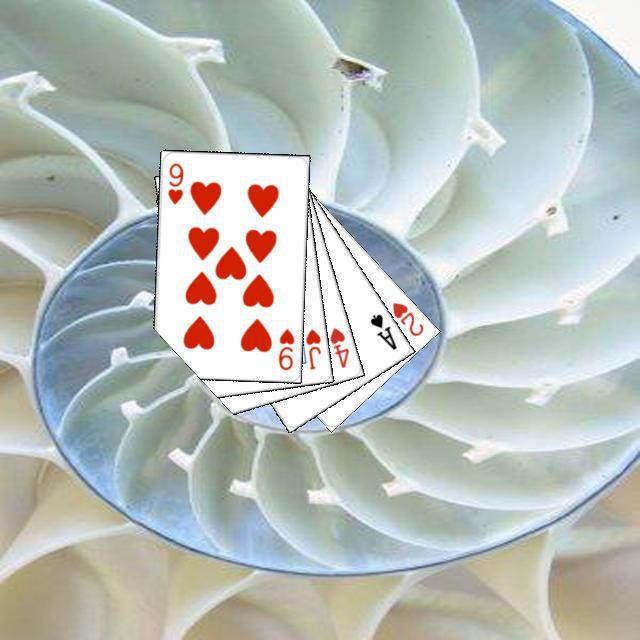2h: (387, 297, 425, 338)
4h: (325, 322, 351, 370)
9h: (273, 323, 296, 372), (163, 158, 185, 206)
As: (365, 309, 399, 352)
Jh: (301, 324, 323, 371)
